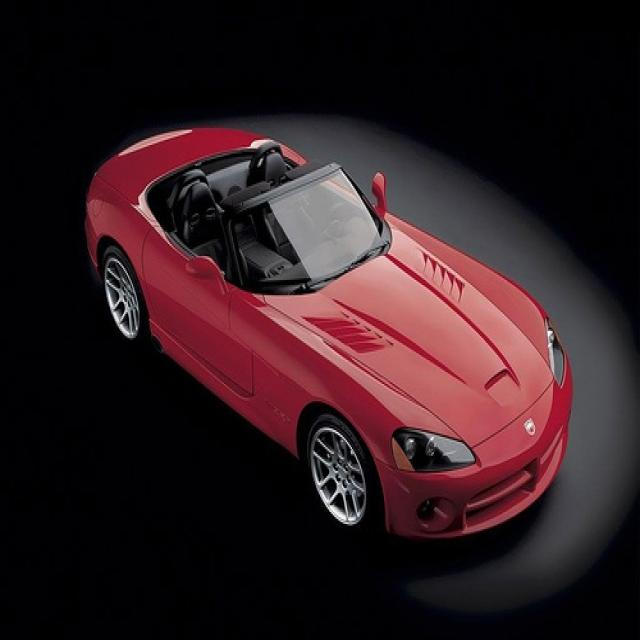car: (83, 119, 572, 549)
